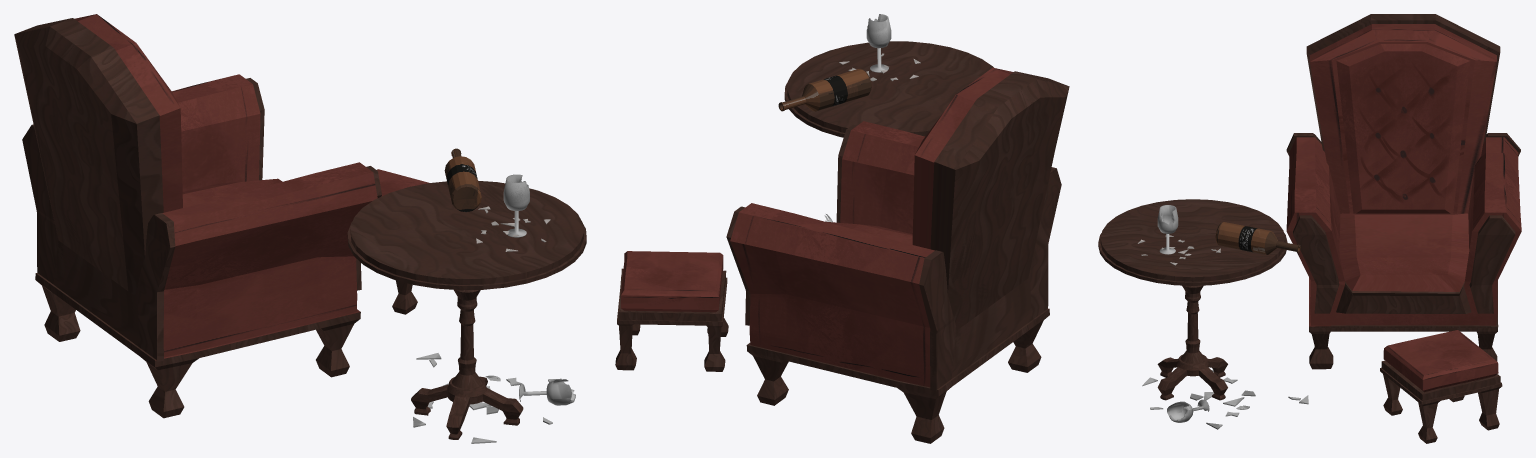
Rendered from koltuk.fbx.
The picture shows the model from 3 angles, left to right: view 1: azimuth 30°, elevation 25°; view 2: azimuth 150°, elevation 25°; view 3: azimuth 270°, elevation 25°; orthographic projection. The views are drawn at different scales.
Visible parts, largest first — view 1: KOLTUK, masa, Cylinder, koltuk yan şeyi, Cylinder.001, Cylinder.002; view 2: KOLTUK, masa, koltuk yan şeyi, Cylinder, Cylinder.001; view 3: KOLTUK, masa, koltuk yan şeyi, Cylinder, Cylinder.001, Cylinder.002.
Part boxes in pixels (x1,y1,x2,y2): KOLTUK: [14, 14, 381, 418]; masa: [347, 180, 586, 439]; Cylinder: [444, 148, 481, 212]; koltuk yan şeyi: [377, 169, 428, 314]; Cylinder.001: [503, 174, 529, 237]; Cylinder.002: [519, 379, 575, 405]; KOLTUK: [726, 67, 1069, 443]; masa: [784, 41, 993, 137]; koltuk yan şeyi: [615, 251, 728, 371]; Cylinder: [778, 68, 871, 111]; Cylinder.001: [866, 14, 891, 72]; KOLTUK: [1286, 14, 1521, 369]; masa: [1098, 199, 1287, 400]; koltuk yan şeyi: [1380, 330, 1502, 443]; Cylinder: [1215, 222, 1300, 254]; Cylinder.001: [1157, 205, 1178, 254]; Cylinder.002: [1167, 399, 1209, 422].
Size of the model in its own units: 418 by 329 by 459.
6 materials, 6 textured.
